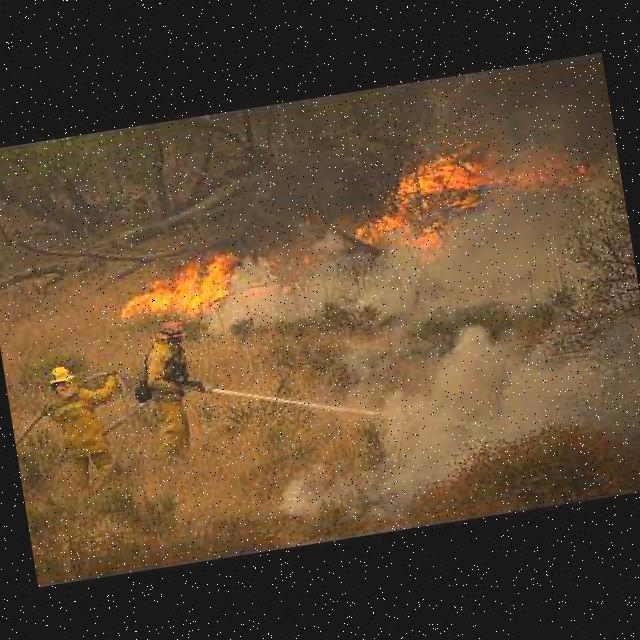Fire: (344, 125, 587, 264), (112, 230, 322, 325)
